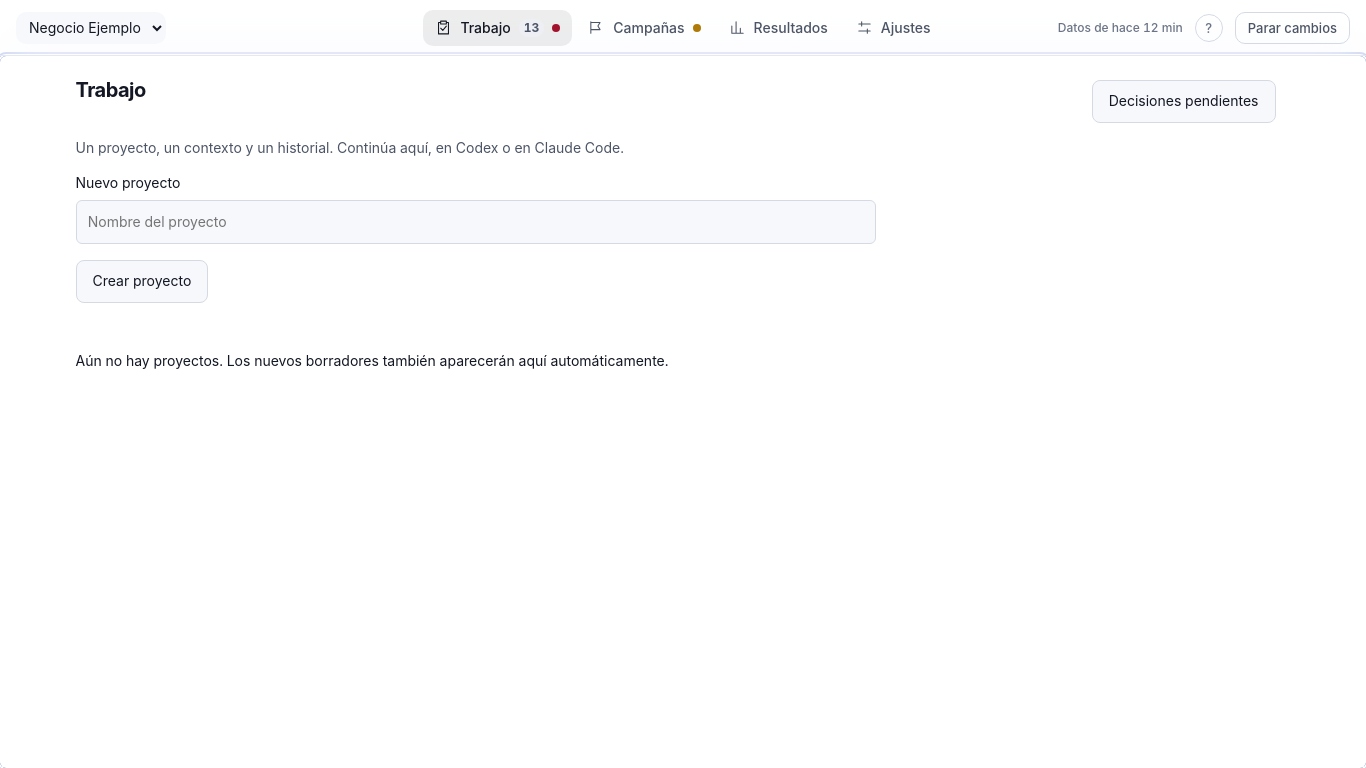
Test case: App routing › search accepts unaccented names and remains accessible with zero results
Check: the heading "Trabajo" is shown, box [76,80,146,100]
Type keys "{Control>}k{/Control}"
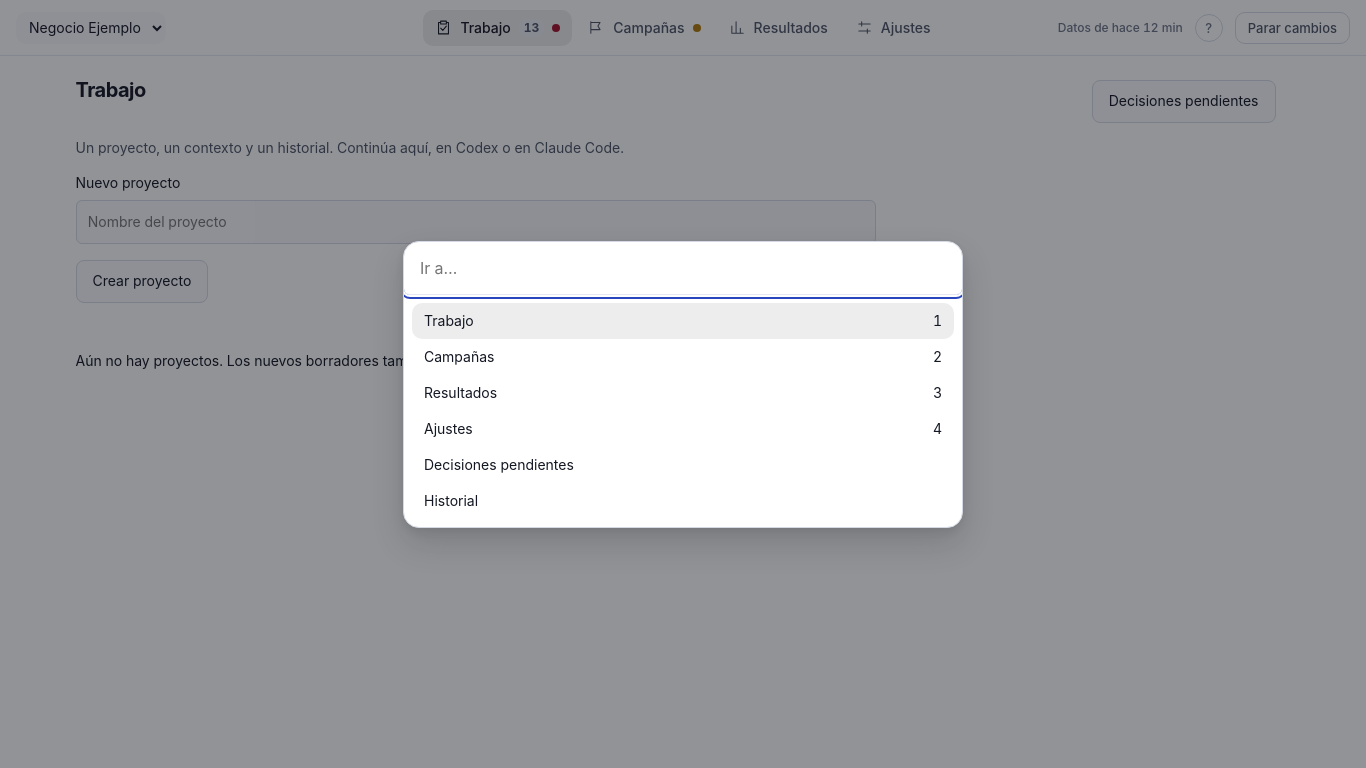
In the dropdown named "Buscar una vista": (683, 268) [404,242,962,294], type "resultados"
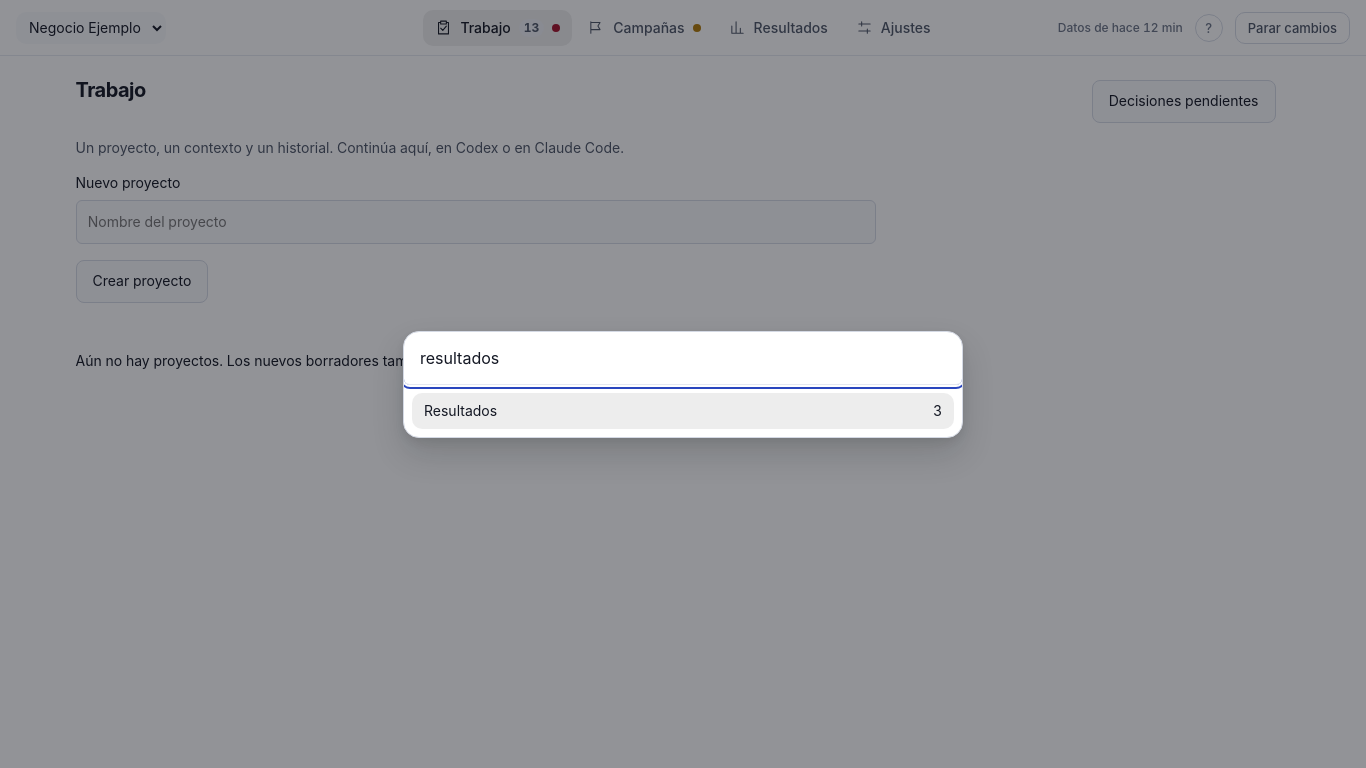
Check: the option "Resultados 3" is shown, box [412,392,954,428]
Clear the dropdown named "Buscar una vista": (683, 358) [404,332,962,384]
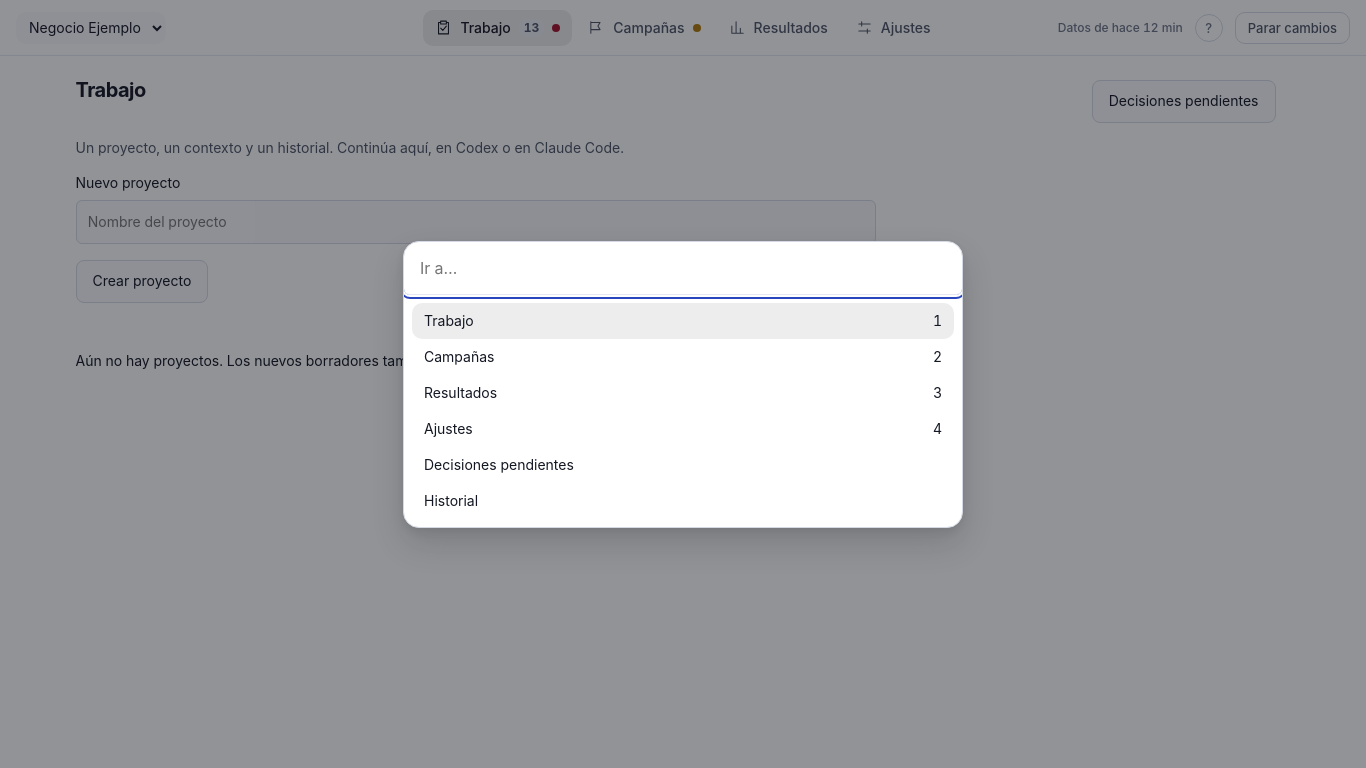
In the dropdown named "Buscar una vista": (683, 268) [404,242,962,294], type "zzzz"
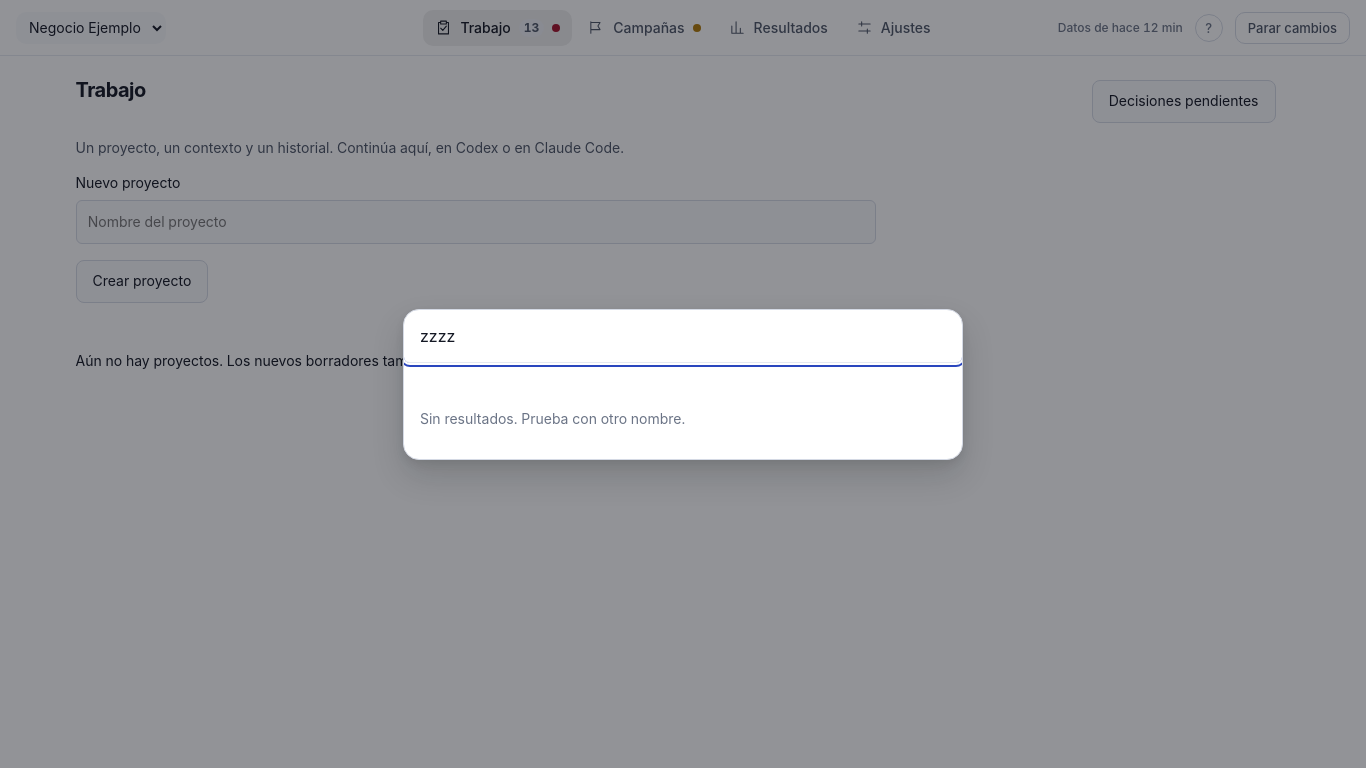
Check: the list is empty, box [404,362,962,378]
Check: the message shows "Sin resultados", box [420,410,685,426]
Press Arrowdown Arrowup Enter
Check: the dialog is shown, box [403,308,963,460]
Clear the dropdown named "Buscar una vista": (683, 336) [404,310,962,362]
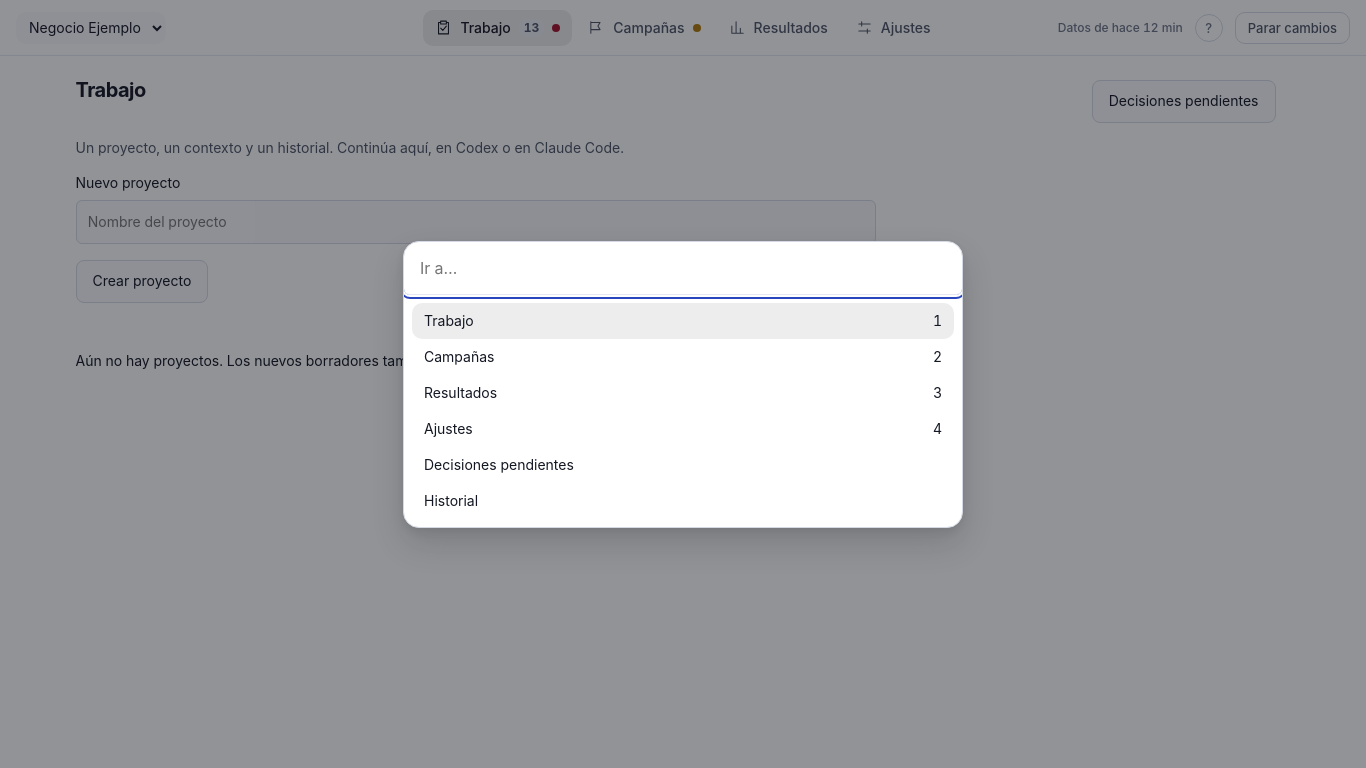
In the dropdown named "Buscar una vista": (683, 268) [404,242,962,294], type "ajustes"
Then press Enter
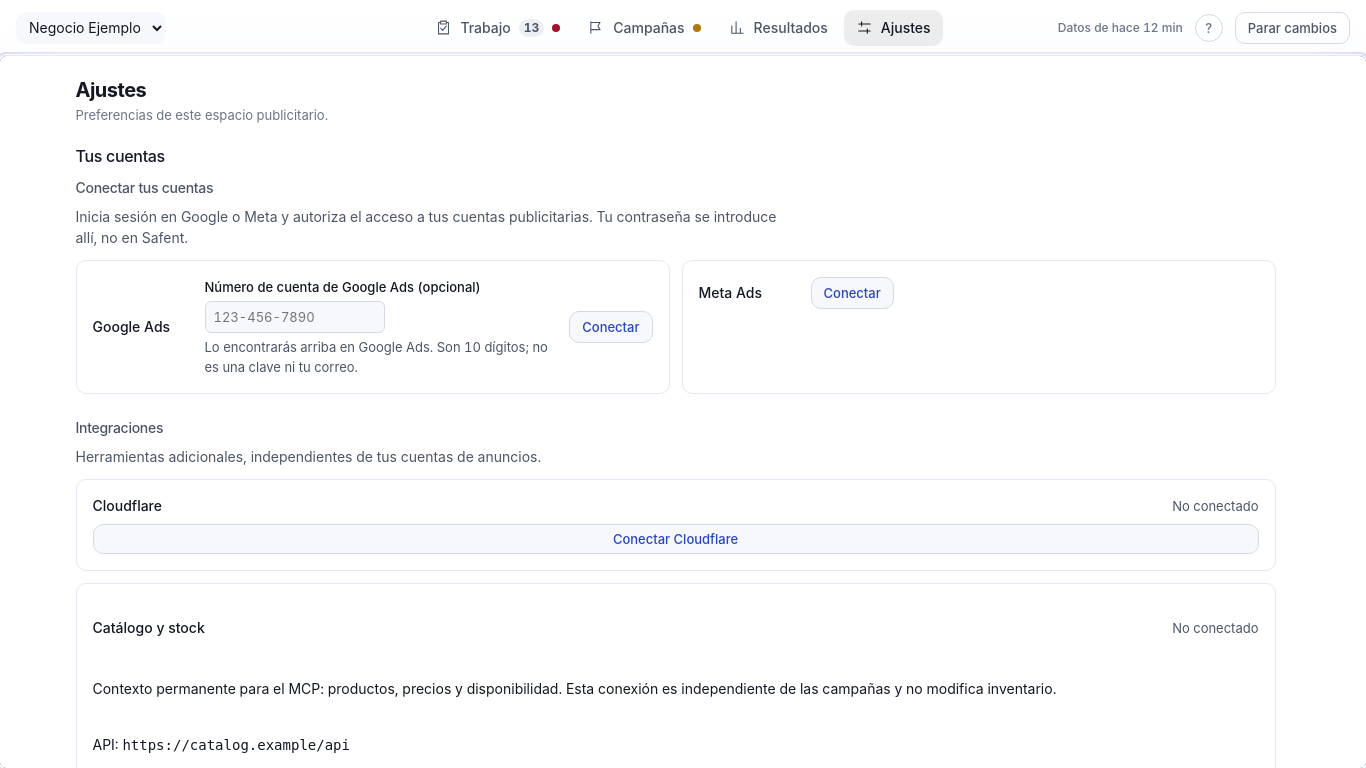
Check: the dialog is gone
Check: the heading "Ajustes" is shown, box [76,78,146,102]
